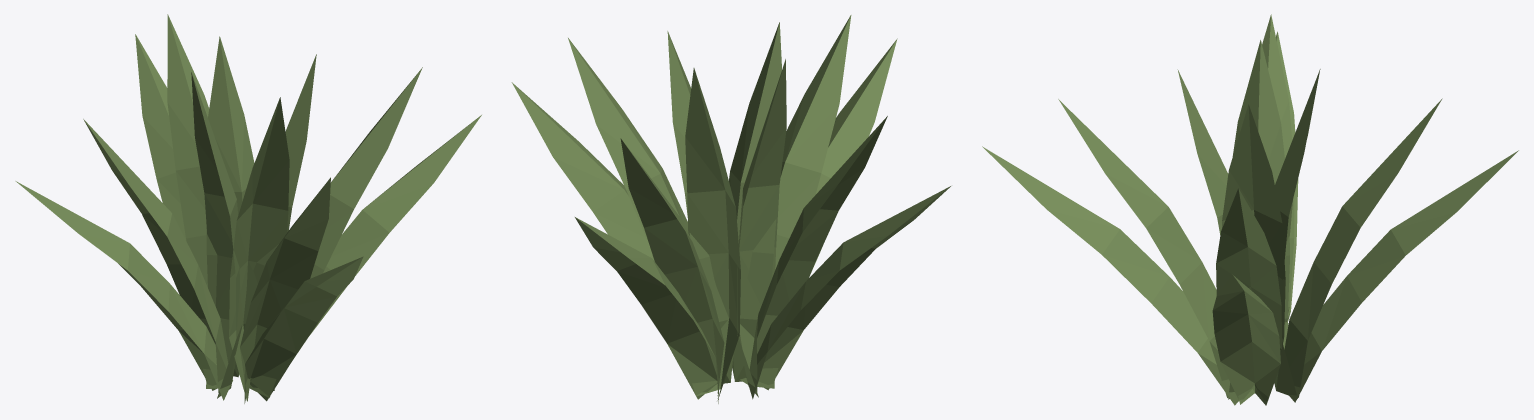
The model's file is 12 Grass.FBX.
3 renders of one model, left to right at view 1: azimuth 30°, elevation 25°; view 2: azimuth 150°, elevation 25°; view 3: azimuth 270°, elevation 25°, orthographic. The views are drawn at different scales.
Visible parts, largest first — view 1: Grass; view 2: Grass; view 3: Grass.
Boxes of the visible parts, box(x1,y1,x2,y2) form: Grass: box(15, 14, 481, 403); Grass: box(511, 15, 950, 403); Grass: box(982, 14, 1518, 405).
Size of the model in its own units: 251 by 181 by 262.
